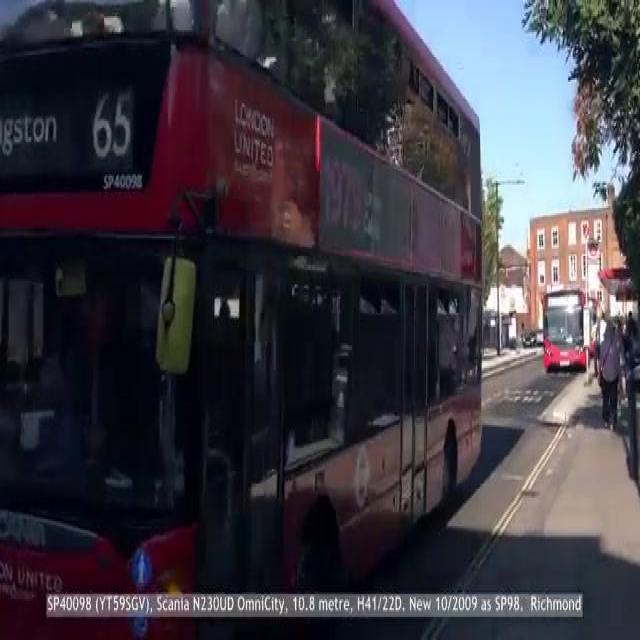motorcycle: (0, 0, 534, 622), (546, 292, 589, 366)
